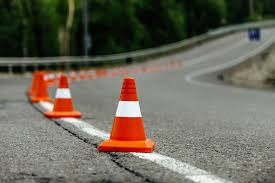cones: (97, 77, 157, 154), (42, 76, 84, 121)
